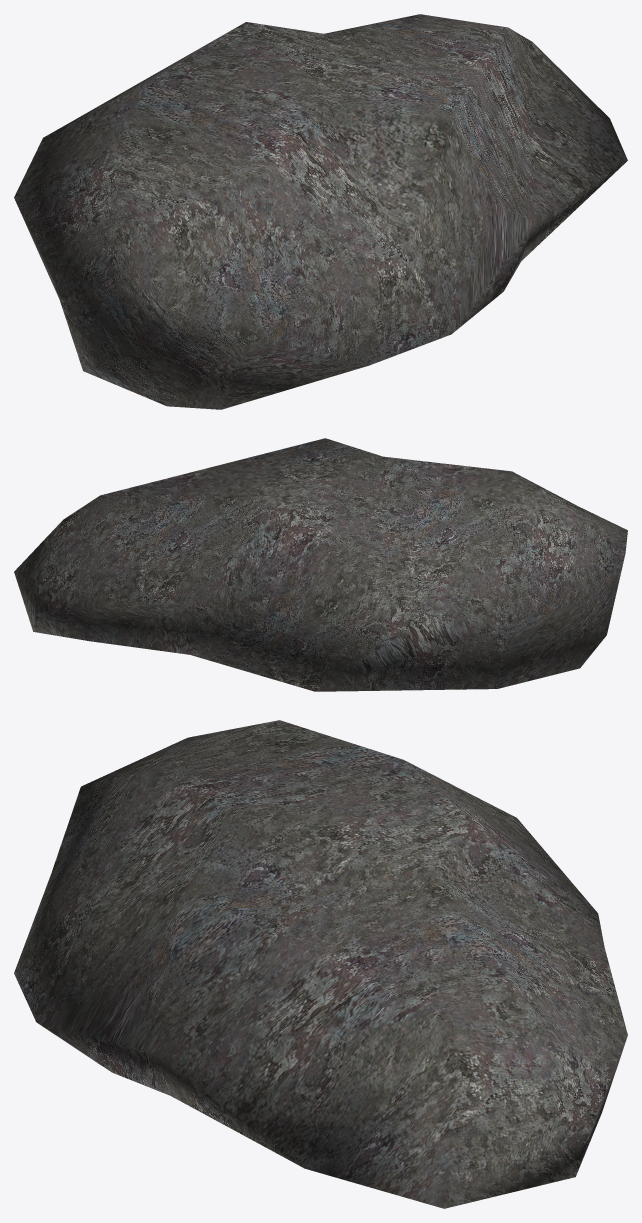
File: rock_forestriverrock_lg_l3.fbx
The picture shows the model from 3 angles, top to bottom: view 1: azimuth 30°, elevation 25°; view 2: azimuth 150°, elevation 25°; view 3: azimuth 270°, elevation 25°; orthographic projection. The views are drawn at different scales.
Visible parts, largest first — view 1: mesh_node; view 2: mesh_node; view 3: mesh_node.
Boxes of the visible parts, box(x1,y1,x2,y2) form: mesh_node: box(14, 14, 627, 409); mesh_node: box(14, 438, 627, 691); mesh_node: box(14, 720, 627, 1208).
Bounding box in the file's own units: 3.5 × 1.15 × 2.61.
1 material, 1 textured.
